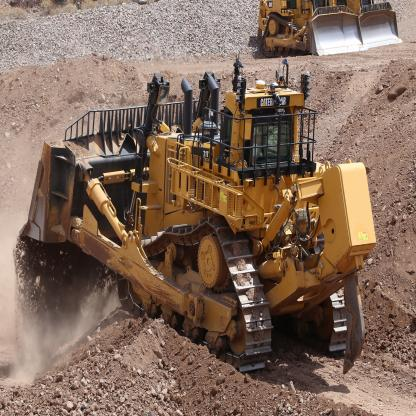bull_dozer/loader/grader: (20, 65, 388, 404)
